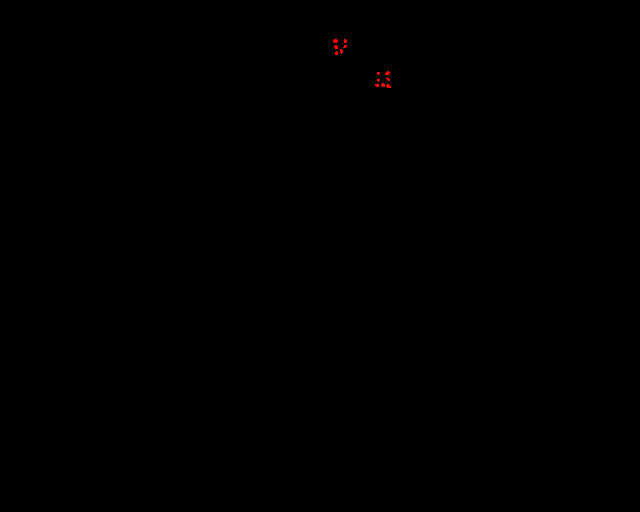Target: (333, 39, 338, 43), (385, 71, 390, 75), (386, 84, 391, 88), (334, 45, 338, 49), (381, 83, 385, 87), (340, 49, 343, 54), (344, 39, 347, 43), (343, 45, 347, 48), (335, 51, 338, 55), (386, 78, 390, 81), (375, 84, 379, 87), (377, 72, 380, 75), (377, 79, 380, 82)
